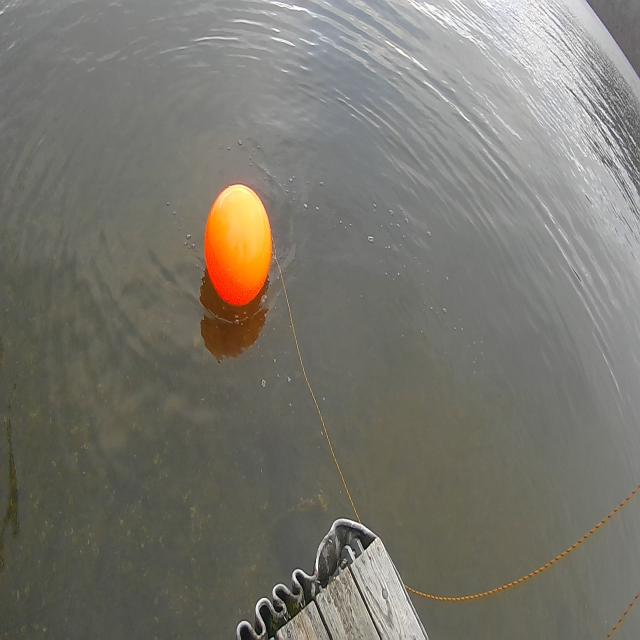Buoy: (201, 176, 275, 310)
